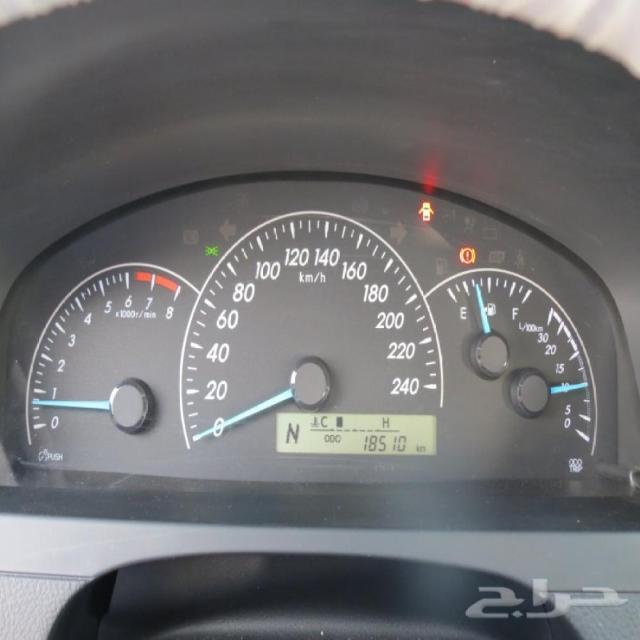Seat Belt: (418, 202, 434, 224)
